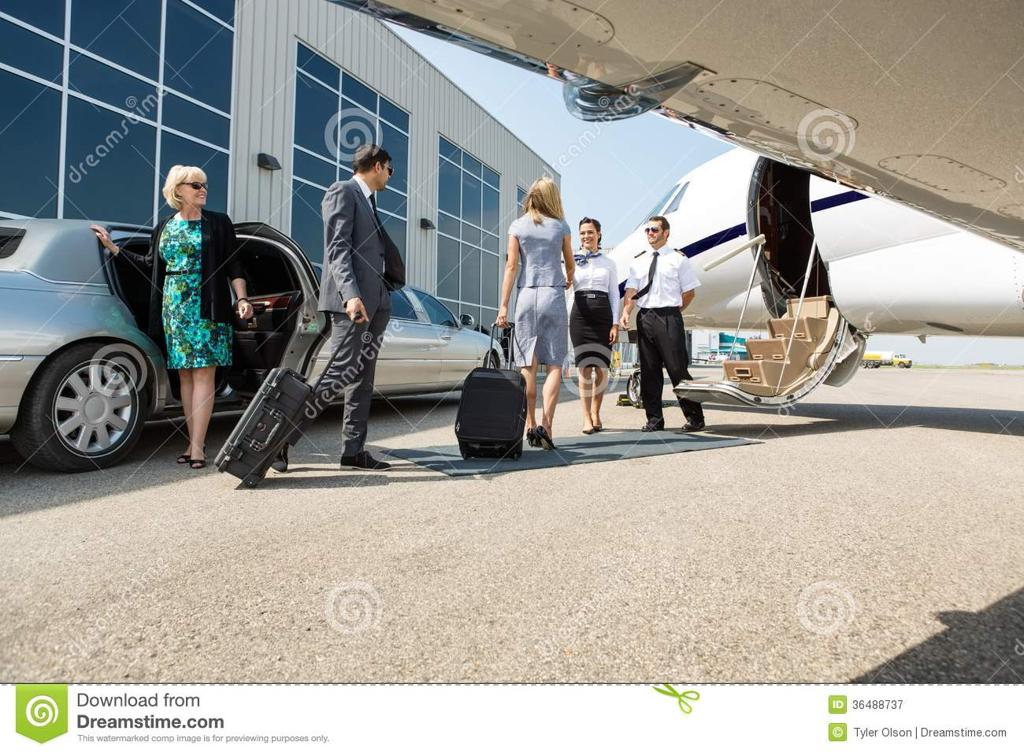face: (182, 174, 208, 204), (373, 159, 391, 188), (645, 224, 662, 243), (579, 228, 596, 247)
